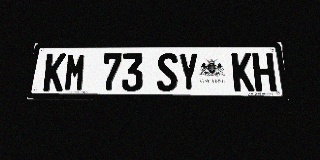3: (121, 53, 143, 91)
7: (100, 53, 122, 91)
H: (252, 53, 277, 91)
K: (42, 53, 66, 91), (231, 53, 255, 91)
M: (63, 53, 87, 91)
S: (157, 53, 178, 91)
Y: (178, 53, 199, 91)
